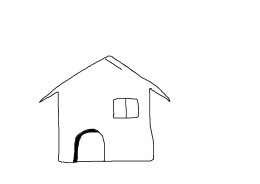bottom_placed_house: (1, 1, 260, 184)
closed_window: (109, 95, 144, 121)
door: (70, 126, 110, 166)
single_line_roof: (37, 52, 175, 106)
wall: (54, 87, 157, 168)
